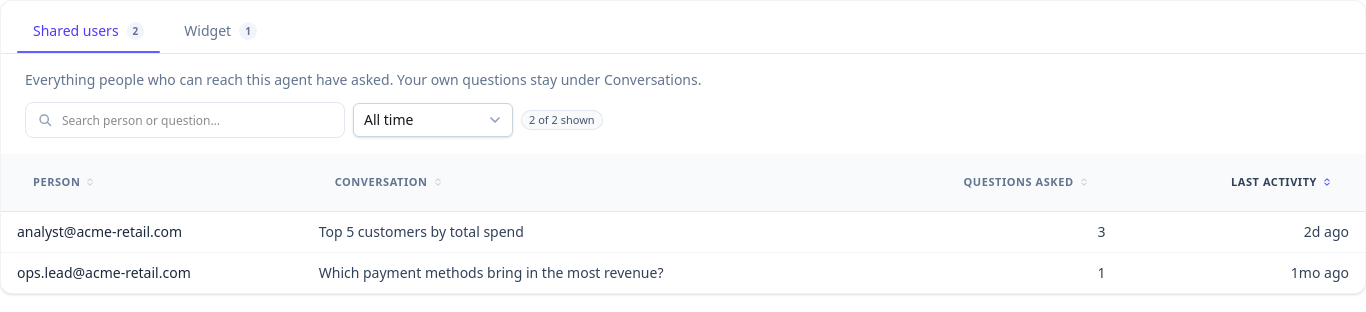
Share → Activity › switches to the bubble's own conversations
This screenshot has width=1366, height=312.
Click the tab "Widget 1" at [221, 31], box [168,13,273,49]
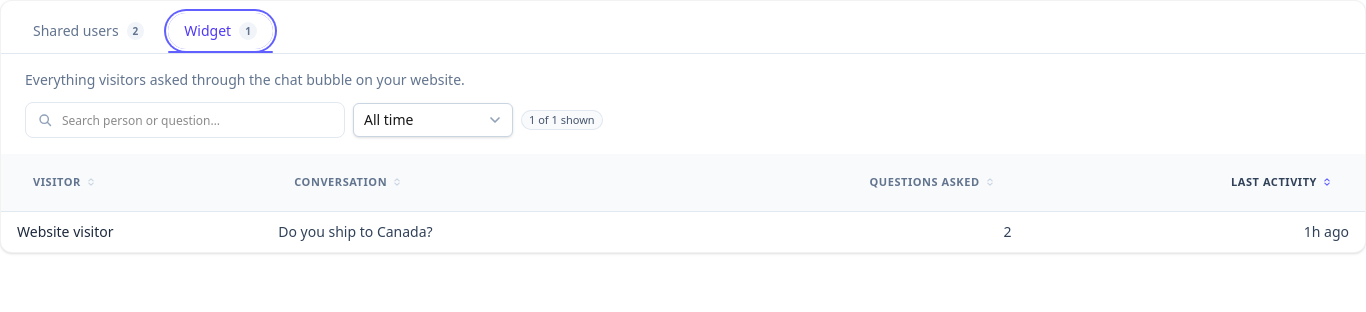
Now the text "Do you ship to Canada?" is shown, box [262,211,641,252]
Now the text "Website visitor" is shown, box [17,222,114,240]
Now the column heading "Visitor" is shown, box [1,154,262,211]
